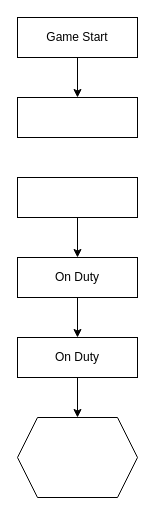
Image size: 155x515. Some labels were removed from this diagram. Here are the shapes that lost their labels. From the top down, the centre of each, then its label:
pixel 77 117: Set Roster
pixel 77 197: Shift Starts
